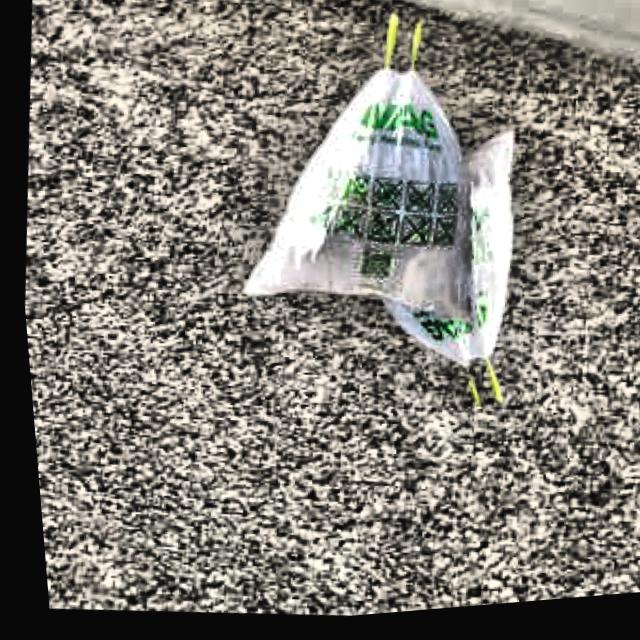Plastic: (214, 0, 511, 365), (323, 109, 562, 443)
